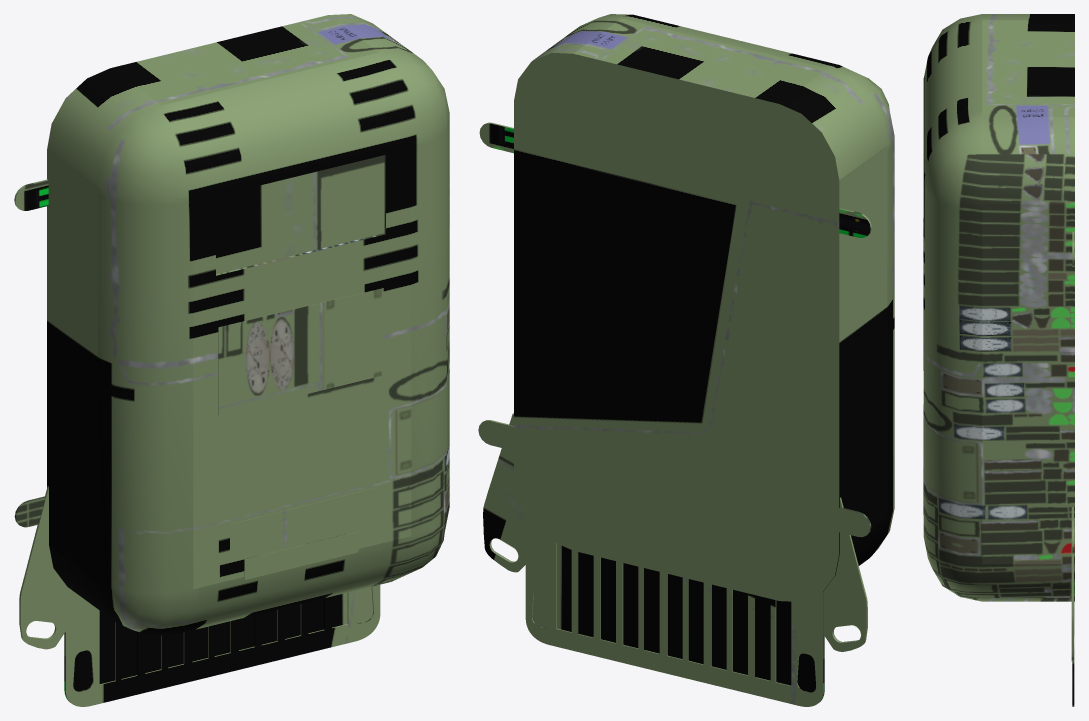
The picture shows the model from 3 angles, left to right: view 1: azimuth 30°, elevation 25°; view 2: azimuth 150°, elevation 25°; view 3: azimuth 270°, elevation 25°; orthographic projection. The views are drawn at different scales.
Visible parts, largest first — view 1: shetchik; view 2: shetchik; view 3: shetchik.
Boxes of the visible parts, left/top/right/bottom form: shetchik: left=14, top=14, right=449, bottom=706; shetchik: left=478, top=14, right=894, bottom=706; shetchik: left=923, top=14, right=1074, bottom=706.
Size of the model in its own units: 576 by 838 by 201.
